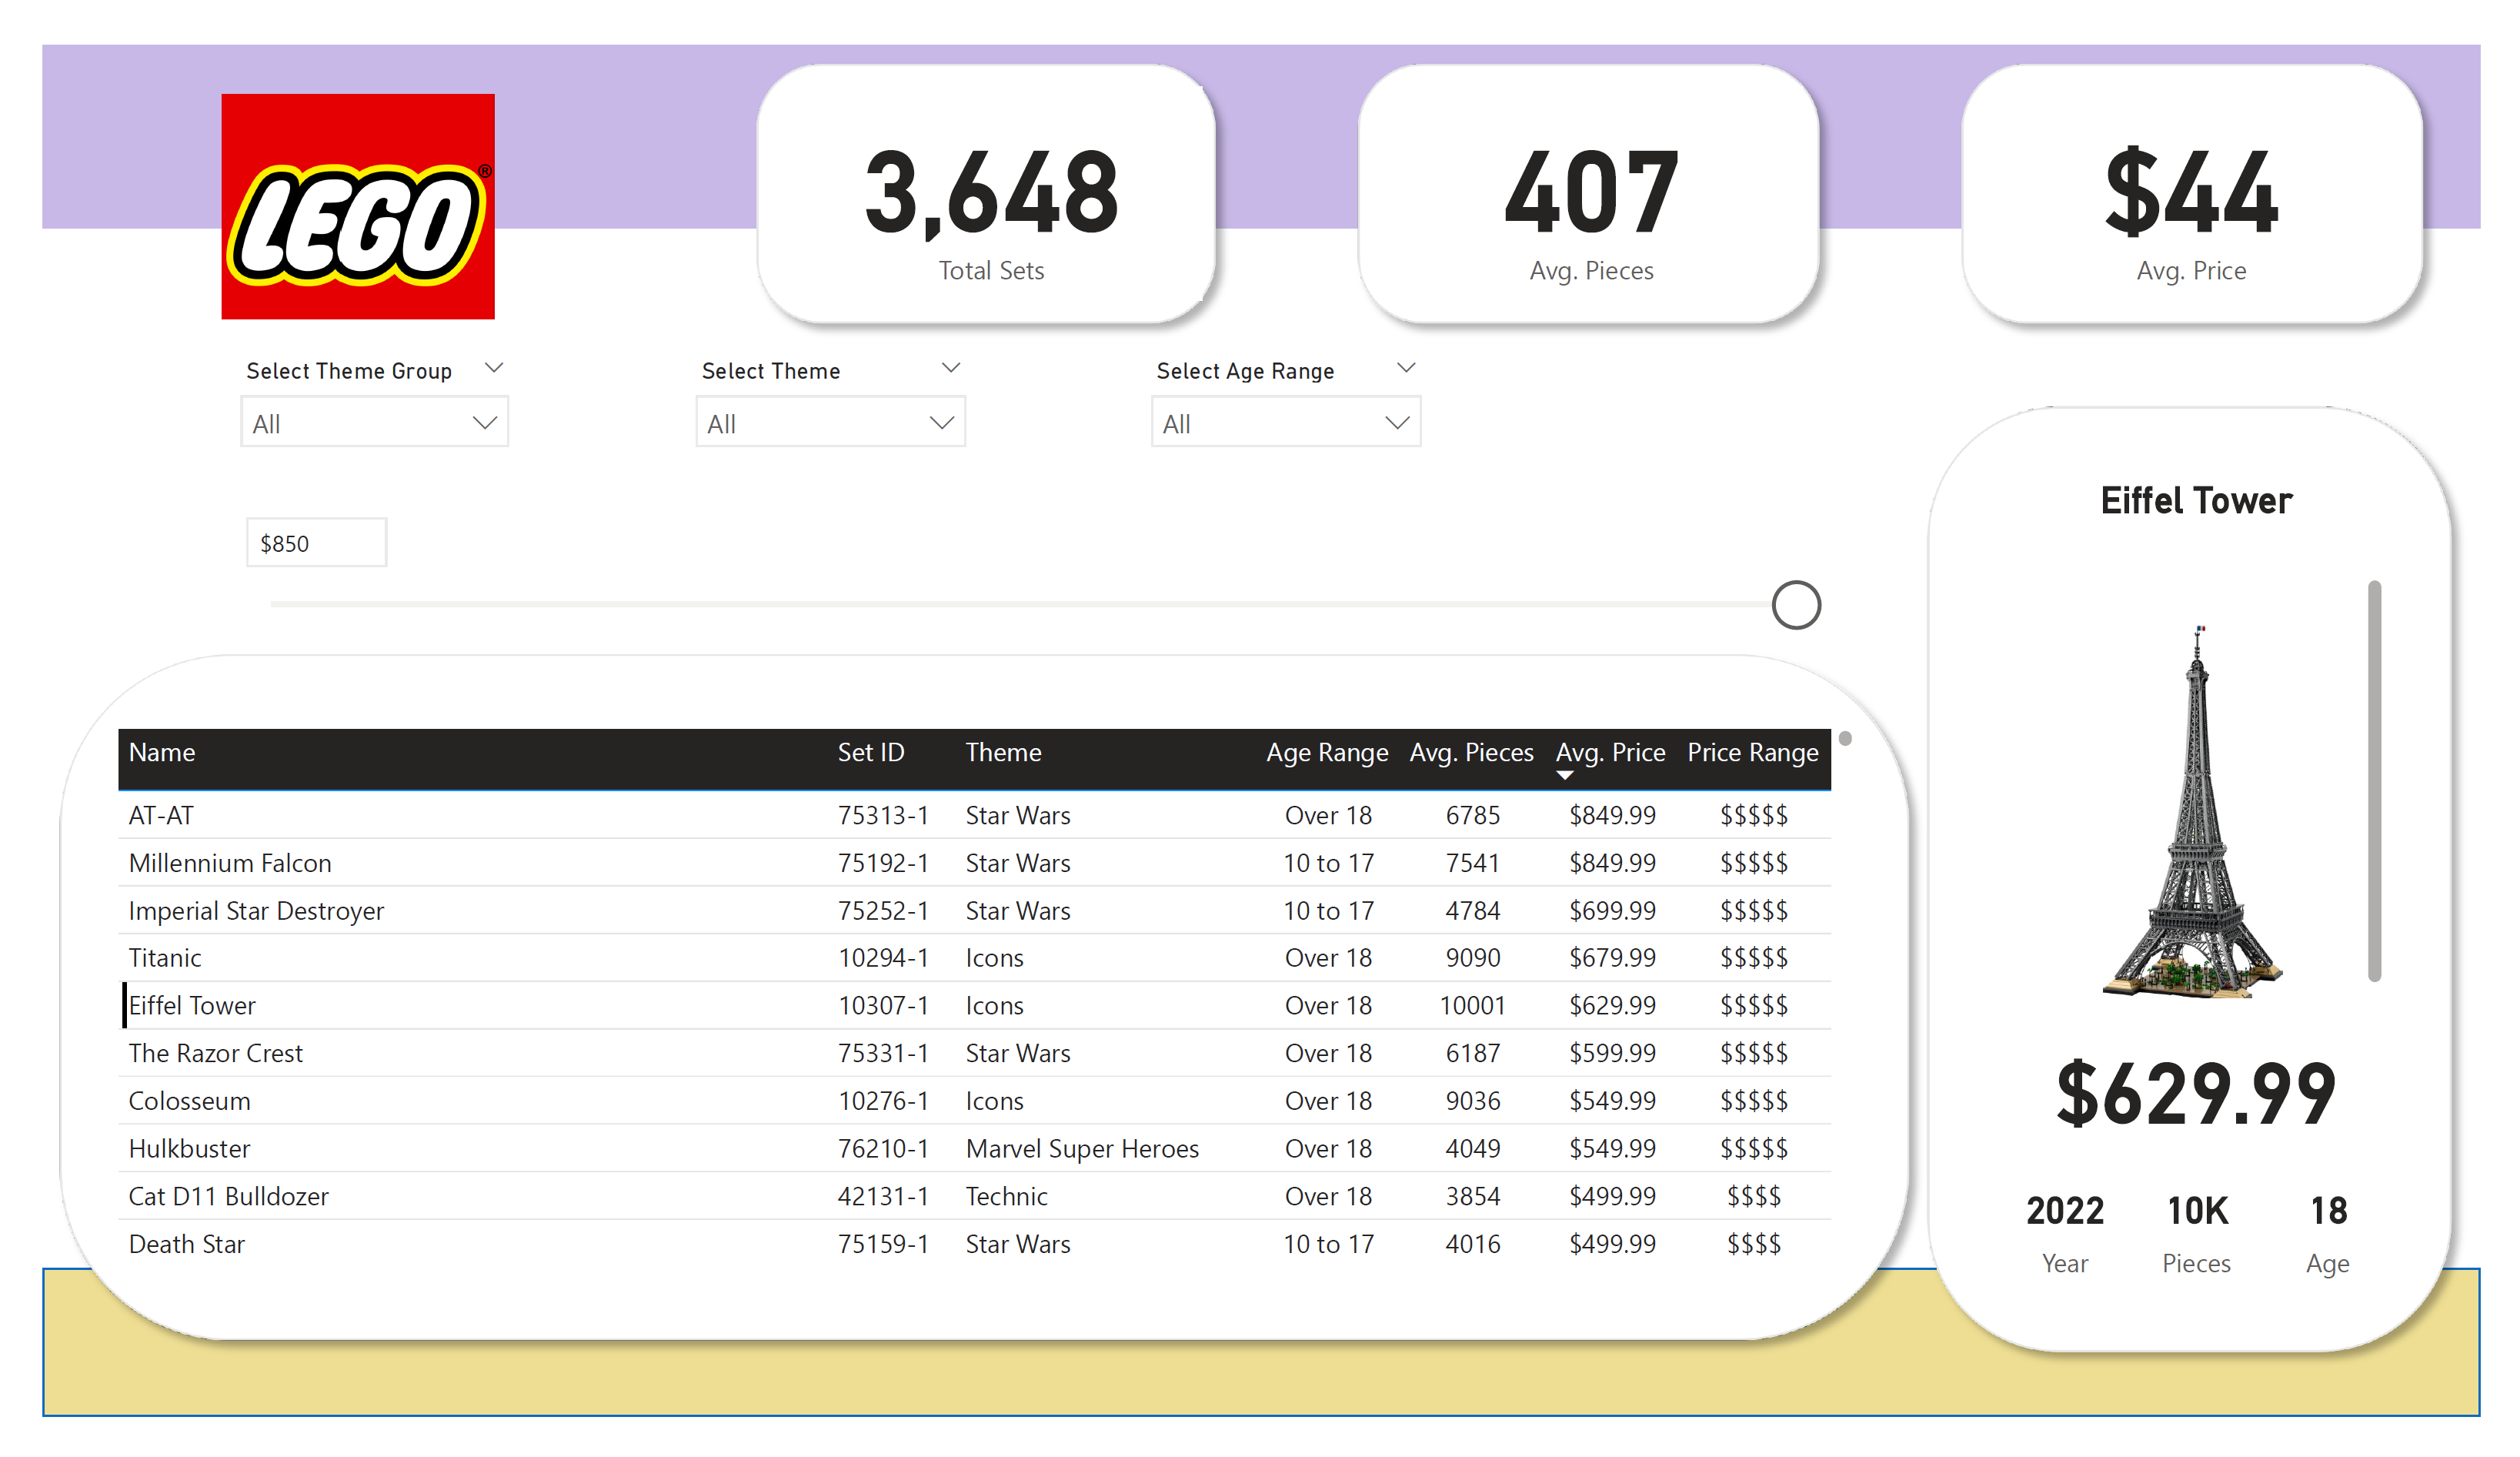

The page's visual inventory and layout, read from the dashboard file:
{"tool":"powerbi","page":{"name":"Lego Set Finder","canvas":[1280,720],"ordinal":0},"visuals":[{"type":"shape","box":[0,0,1280,96.3],"z":0},{"type":"shape","box":[365.7,1.5,259.7,153.7],"z":1000},{"type":"card","fields":{"Values":["Measures (2).Total Sets"]},"box":[388.1,22.4,220.8,111.9],"z":2000},{"type":"shape","box":[998.9,1.5,259.7,153.7],"z":3000},{"type":"shape","box":[682.3,1.5,259.7,153.7],"z":4000},{"type":"card","fields":{"Values":["Measures (2).Avg. Price"]},"box":[1018.4,22.4,220.8,111.9],"z":5000},{"type":"card","fields":{"Values":["Measures (2).Avg. Pieces"]},"box":[703.2,22.4,220.8,111.9],"z":6000},{"type":"slicer","fields":{"Values":["lego_sets.themeGroup"]},"box":[93.9,159,161.5,75.9],"z":7000},{"type":"slicer","fields":{"Values":["lego_sets.Age Range"]},"box":[572.4,159,161.5,75.9],"z":8000},{"type":"slicer","fields":{"Values":["lego_sets.theme"]},"box":[333.1,159,161.5,75.9],"z":9000},{"type":"shape","box":[0,641.9,1280,77.8],"z":10000},{"type":"shape","box":[0,311.2,989.2,377.4],"z":11000},{"type":"tableEx","fields":{"Values":["lego_sets.name","lego_sets.set_id","lego_sets.theme","lego_sets.Age Range","Measures (2).Avg. Pieces","Measures (2).Avg. Price","lego_sets.Price Range"]},"box":[34,354,922.1,287.9],"z":12000},{"type":"image","box":[89.5,1.5,152.7,167.3],"z":13000},{"type":"shape","box":[981.4,180.9,292.8,514.5],"z":14000},{"type":"card","fields":{"Values":["Min(lego_sets.name)"]},"box":[1027.8,211.1,206.2,55.4],"z":15000},{"type":"tableEx","fields":{"Values":["lego_sets.imageURL"]},"box":[1027.6,275.3,206.2,229.5],"z":16000},{"type":"card","fields":{"Values":["Sum(lego_sets.price)"]},"box":[1028.3,514.2,205.2,63.2],"z":17000},{"type":"card","fields":{"Values":["Sum(lego_sets.year)"]},"box":[1027.6,585.5,68.1,69.1],"z":18000},{"type":"card","fields":{"Values":["Measures (2).Avg. Pieces"]},"box":[1096.7,585.5,68.1,69.1],"z":19000},{"type":"card","fields":{"Values":["Measures (2).Avg. Age"]},"box":[1165.7,585.5,68.1,69.1],"z":20000},{"type":"slicer","fields":{"Values":["Max Price.Max Price"]},"box":[94.3,238.3,848.1,72.9],"z":21000}]}

Visuals, with their boxes in screenshot pixels (x1, y1, x2, y2), scaled from the page's 1280x720 canvas onto the 2520x1457 screenshot:
shape: 0/0/2519/195
shape: 720/3/1231/314
card - Measures (2).Total Sets: 764/45/1199/272
shape: 1967/3/2478/314
shape: 1343/3/1854/314
card - Measures (2).Avg. Price: 2005/45/2440/272
card - Measures (2).Avg. Pieces: 1384/45/1819/272
slicer - lego_sets.themeGroup: 185/322/502/476
slicer - lego_sets.Age Range: 1127/322/1445/476
slicer - lego_sets.theme: 656/322/973/476
shape: 0/1299/2519/1456
shape: 0/630/1948/1393
tableEx - lego_sets.name x lego_sets.set_id: 67/717/1882/1299
image: 176/3/477/342
shape: 1932/366/2508/1407
card - Min(lego_sets.name): 2024/427/2429/540
tableEx - lego_sets.imageURL: 2023/557/2429/1021
card - Sum(lego_sets.price): 2024/1041/2428/1168
card - Sum(lego_sets.year): 2023/1185/2157/1325
card - Measures (2).Avg. Pieces: 2159/1185/2293/1325
card - Measures (2).Avg. Age: 2295/1185/2429/1325
slicer - Max Price.Max Price: 185/483/1855/630
